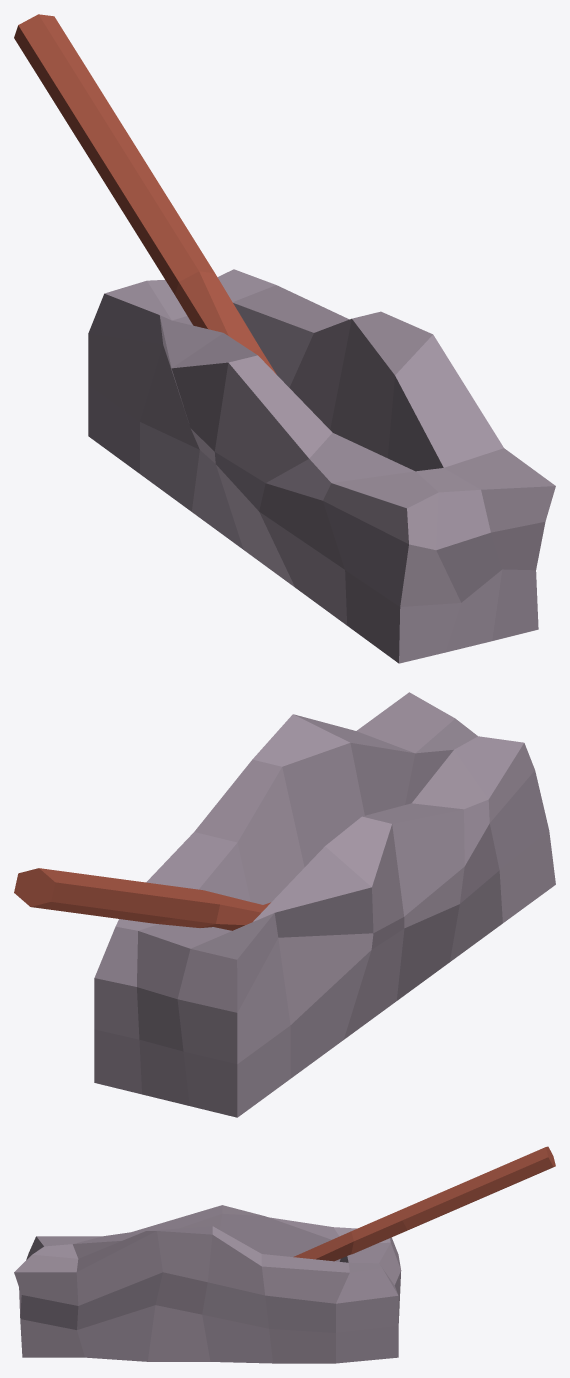
File: lever.fbx
The picture shows the model from 3 angles, top to bottom: view 1: azimuth 30°, elevation 25°; view 2: azimuth 150°, elevation 25°; view 3: azimuth 270°, elevation 25°; orthographic projection. The views are drawn at different scales.
Parts seen in each view (by area): view 1: Cube, Cylinder; view 2: Cube, Cylinder; view 3: Cube, Cylinder.
Part boxes in pixels (x1,y1,x2,y2): Cube: (88, 269, 555, 663); Cylinder: (14, 14, 276, 374); Cube: (94, 692, 555, 1117); Cylinder: (14, 868, 270, 930); Cube: (14, 1205, 401, 1363); Cylinder: (293, 1146, 555, 1261).
Size of the model in its own units: 273 by 432 by 1111.
